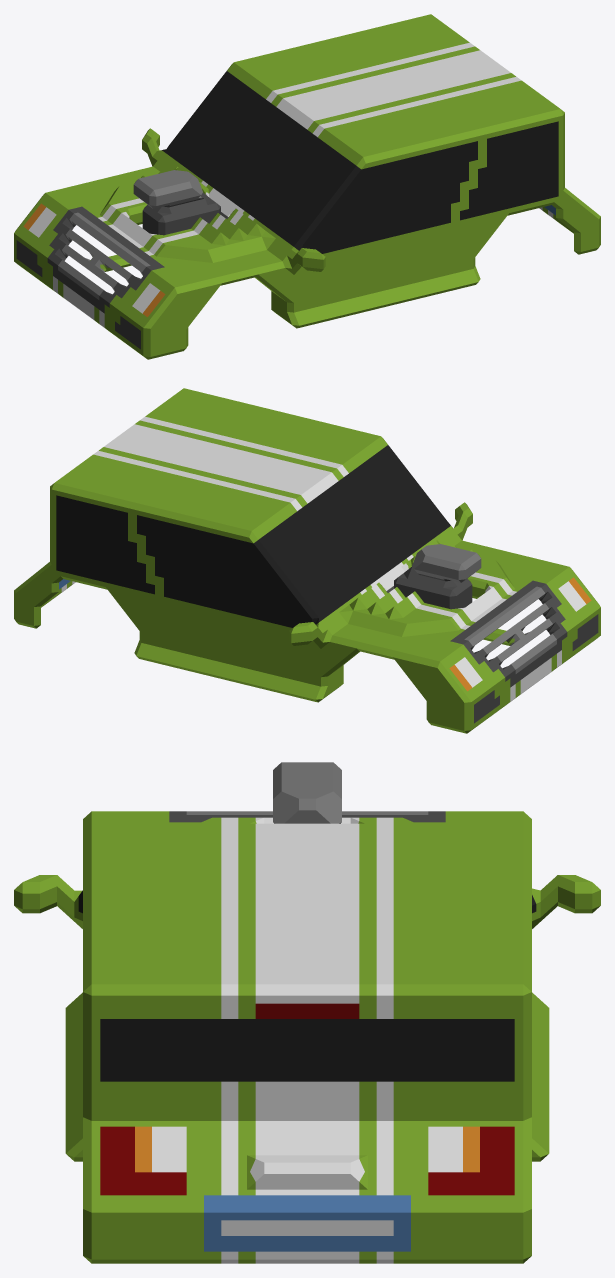
File: rccar_body.fbx
The picture shows the model from 3 angles, top to bottom: view 1: azimuth 30°, elevation 25°; view 2: azimuth 150°, elevation 25°; view 3: azimuth 270°, elevation 25°; orthographic projection. The views are drawn at different scales.
Parts seen in each view (by area): view 1: rccar_body; view 2: rccar_body; view 3: rccar_body.
Part boxes in pixels (bbox=[...]): rccar_body: bbox=[14, 14, 600, 359]; rccar_body: bbox=[14, 388, 600, 733]; rccar_body: bbox=[14, 762, 600, 1263].
Bounding box in the file's own units: 5100 × 1600 × 3400.
